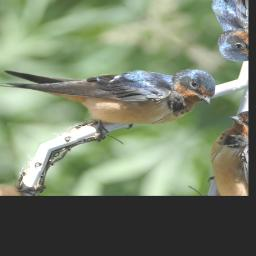Swallow: (0, 0, 232, 181)
